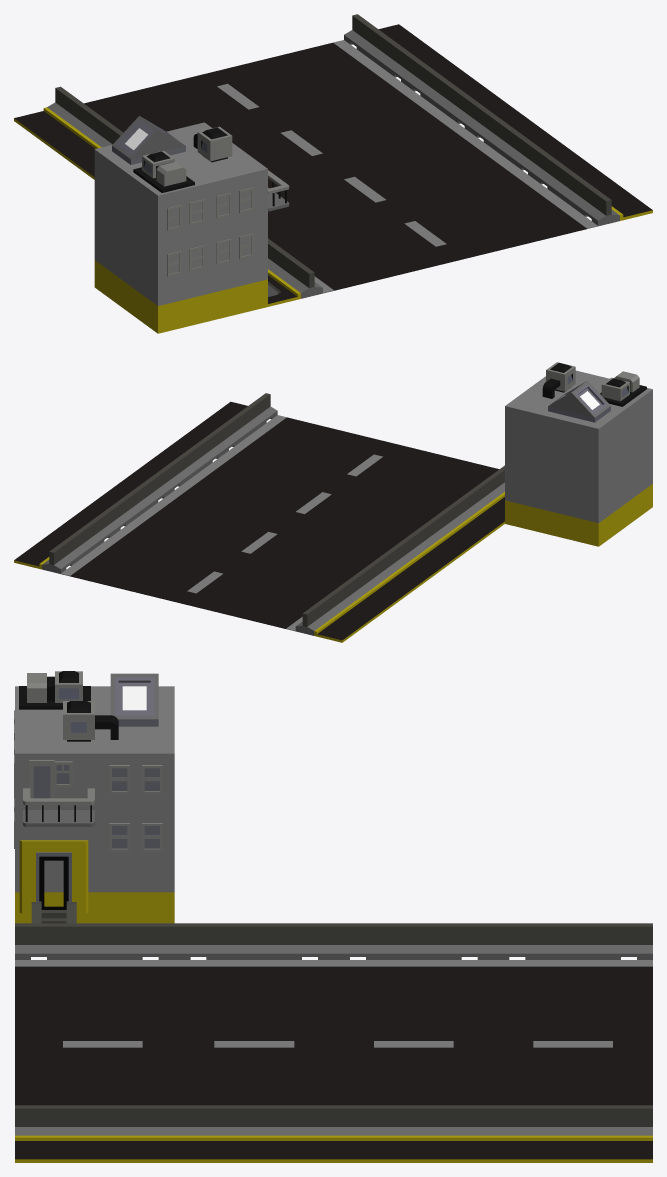
The model's file is planne 1.fbx.
The picture shows the model from 3 angles, top to bottom: view 1: azimuth 30°, elevation 25°; view 2: azimuth 150°, elevation 25°; view 3: azimuth 270°, elevation 25°; orthographic projection. The views are drawn at different scales.
Parts seen in each view (by area): view 1: roof_flatCenter (×2), block, detail_roadBlockSmall (×6), roof_flatEdge (×2), roof_windowGlass, detail_ventMedium, detail_ventSmall, balcony_basic; view 2: roof_flatCenter (×2), block, detail_roadBlockSmall (×8), roof_flatEdge (×2), roof_windowGlass, detail_ventMedium, detail_ventSmall; view 3: roof_flatCenter (×2), detail_roadBlockSmall (×8), block, roof_flatEdge, doorway_doorSolid, roof_windowGlass, window_double (×2), detail_ventMedium, balcony_basic, detail_ventSmall, window_small, stairs_small.
Part boxes in pixels (x1,y1,x2,y2): roof_flatCenter (×2): [84, 40, 597, 292]; block: [94, 122, 267, 333]; detail_roadBlockSmall (×6): [47, 14, 619, 298]; roof_flatEdge (×2): [14, 24, 652, 306]; roof_windowGlass: [112, 116, 185, 164]; detail_ventMedium: [133, 150, 194, 192]; detail_ventSmall: [193, 126, 232, 162]; balcony_basic: [268, 170, 289, 211]; roof_flatCenter (×2): [61, 415, 499, 628]; block: [505, 370, 652, 546]; detail_roadBlockSmall (×8): [42, 393, 504, 635]; roof_flatEdge (×2): [14, 401, 504, 642]; roof_windowGlass: [548, 380, 610, 422]; detail_ventMedium: [600, 371, 646, 406]; detail_ventSmall: [542, 362, 575, 398]; roof_flatCenter (×2): [15, 960, 652, 1105]; detail_roadBlockSmall (×8): [15, 923, 652, 1135]; block: [15, 686, 174, 923]; roof_flatEdge: [15, 1135, 652, 1162]; doorway_doorSolid: [19, 840, 88, 913]; roof_windowGlass: [110, 673, 158, 726]; window_double (×2): [109, 765, 162, 851]; detail_ventMedium: [19, 671, 90, 709]; balcony_basic: [23, 788, 94, 826]; detail_ventSmall: [63, 701, 118, 741]; window_small: [29, 760, 54, 809]; stairs_small: [31, 901, 76, 923].
Bounding box in the file's own units: 90 × 29 × 80.14.
